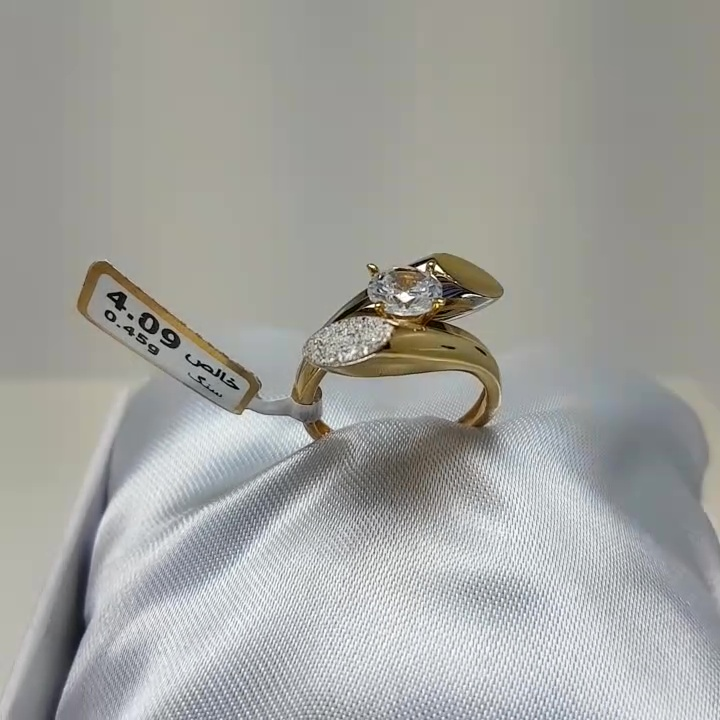Ring 7: (281, 231, 528, 474)
